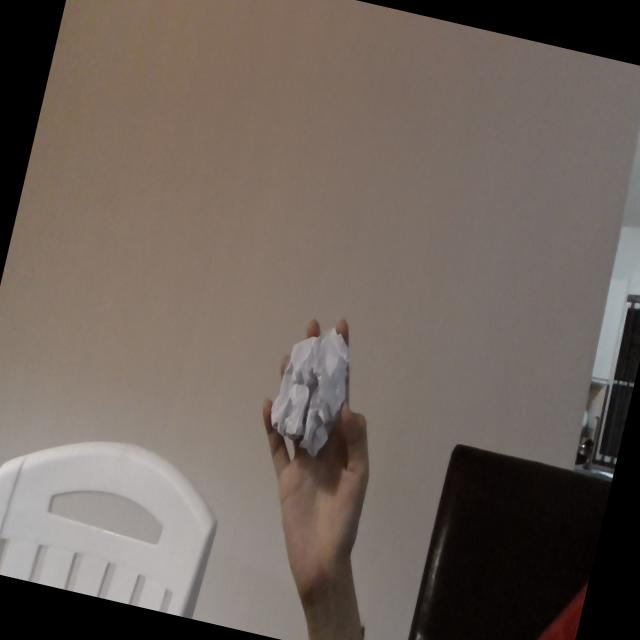crumpled_paper: (260, 312, 365, 470)
